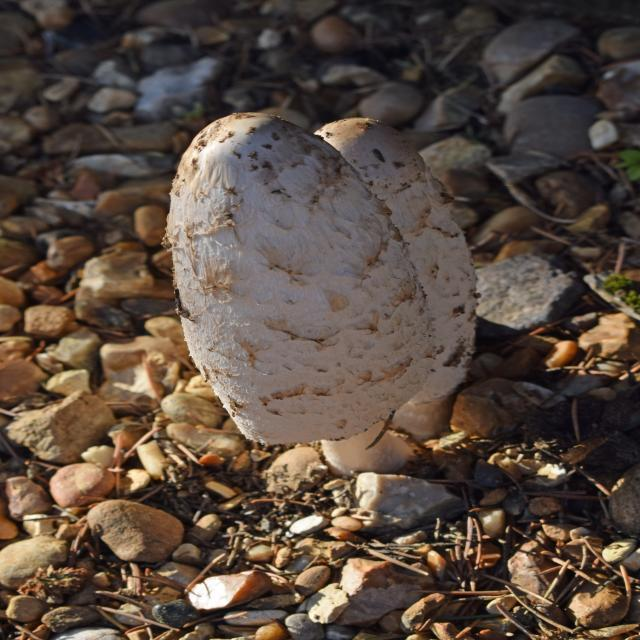Coprinus comatus: (171, 107, 413, 471), (295, 122, 477, 444)
